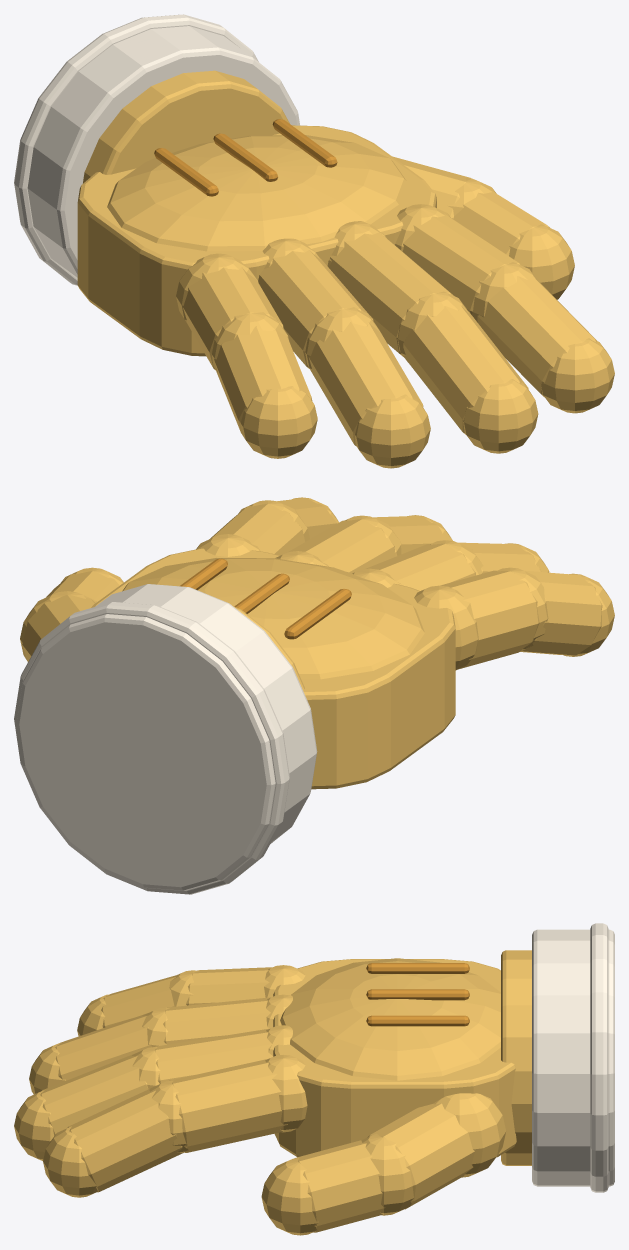
File: hand.glb
3 renders of one model, top to bottom at view 1: azimuth 30°, elevation 25°; view 2: azimuth 150°, elevation 25°; view 3: azimuth 270°, elevation 25°, orthographic. The views are drawn at different scales.
Parts seen in each view (by area): view 1: HandOpen; view 2: HandOpen; view 3: HandOpen.
Boxes of the visible parts, x1=… form: HandOpen: x1=14, y1=14, x2=614, y2=468; HandOpen: x1=14, y1=497, x2=614, y2=894; HandOpen: x1=14, y1=923, x2=614, y2=1235.
Size of the model in its own units: 0.8685 by 0.524 by 1.16.
